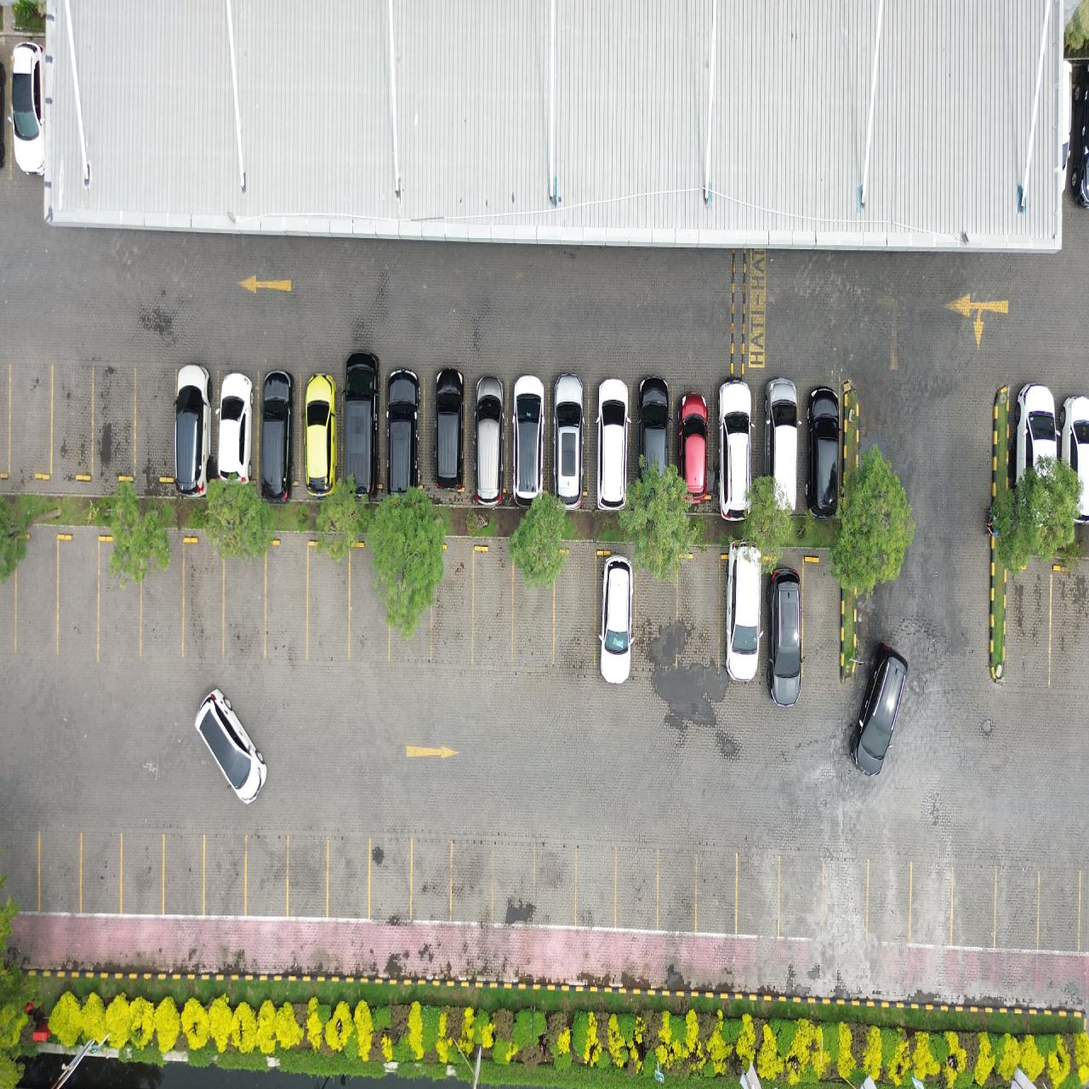cars: (177, 370, 216, 485), (218, 372, 257, 487), (342, 375, 381, 490), (634, 385, 673, 500), (593, 383, 632, 498), (597, 555, 636, 670), (259, 372, 297, 488), (551, 379, 589, 495), (764, 560, 802, 676), (723, 558, 761, 674), (300, 375, 338, 490), (384, 377, 422, 492), (467, 376, 505, 491), (426, 374, 464, 489), (510, 377, 548, 492), (718, 388, 756, 503), (677, 386, 715, 501), (801, 391, 839, 506), (760, 389, 798, 504)
empty: (636, 551, 678, 699), (99, 534, 141, 681), (555, 548, 595, 702), (267, 536, 308, 686), (309, 537, 350, 686), (391, 542, 432, 690), (678, 552, 719, 699), (142, 535, 183, 682), (225, 536, 265, 686), (514, 546, 554, 695), (433, 543, 473, 691), (18, 533, 58, 681), (351, 540, 390, 689), (11, 357, 53, 494), (60, 533, 98, 683), (475, 544, 512, 697), (185, 536, 223, 683), (94, 357, 134, 496), (53, 357, 93, 495), (136, 357, 175, 497), (804, 553, 841, 697)
